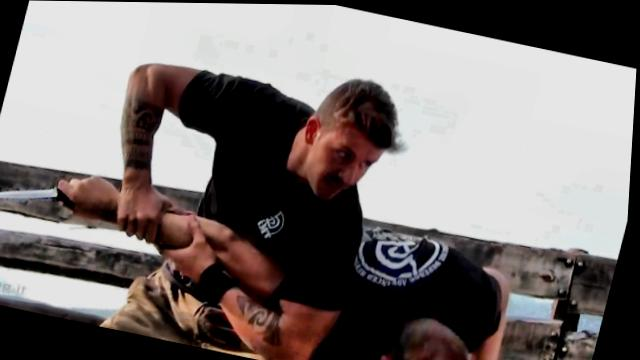knife: (0, 150, 107, 222)
